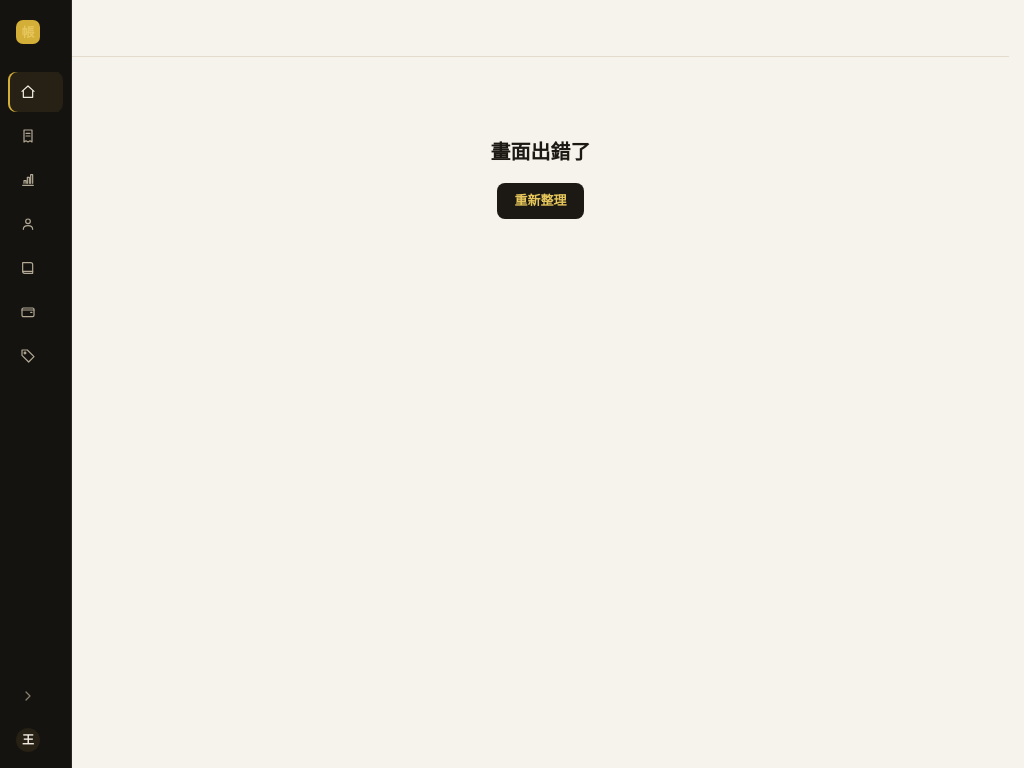
it: UserMenu › swaps the menu for the settings dialog (SC-32.2)
Click the button named "王小明的選單". click: click(36, 740)
box: [8,720,63,760]
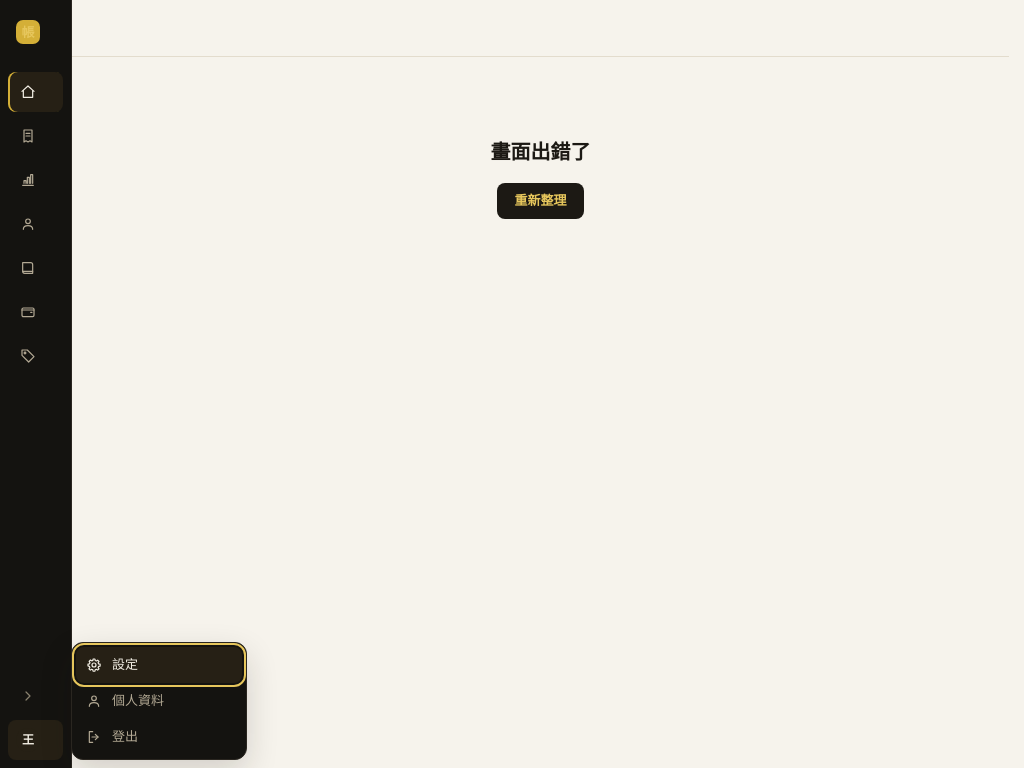
Click the button "設定". click: click(159, 665)
box: [76,647,242,683]
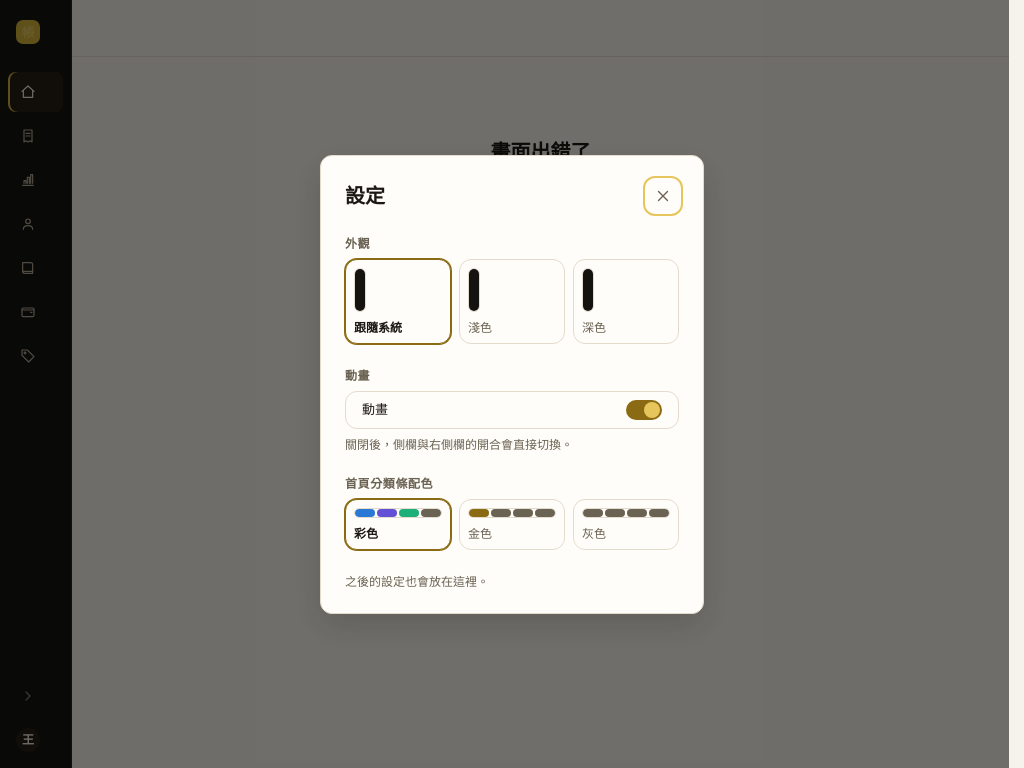
expect the dialog "設定" is shown: met, box [320,154,704,614]
expect the button named "王小明的選單" is collapsed: met, box [8,720,63,760]
